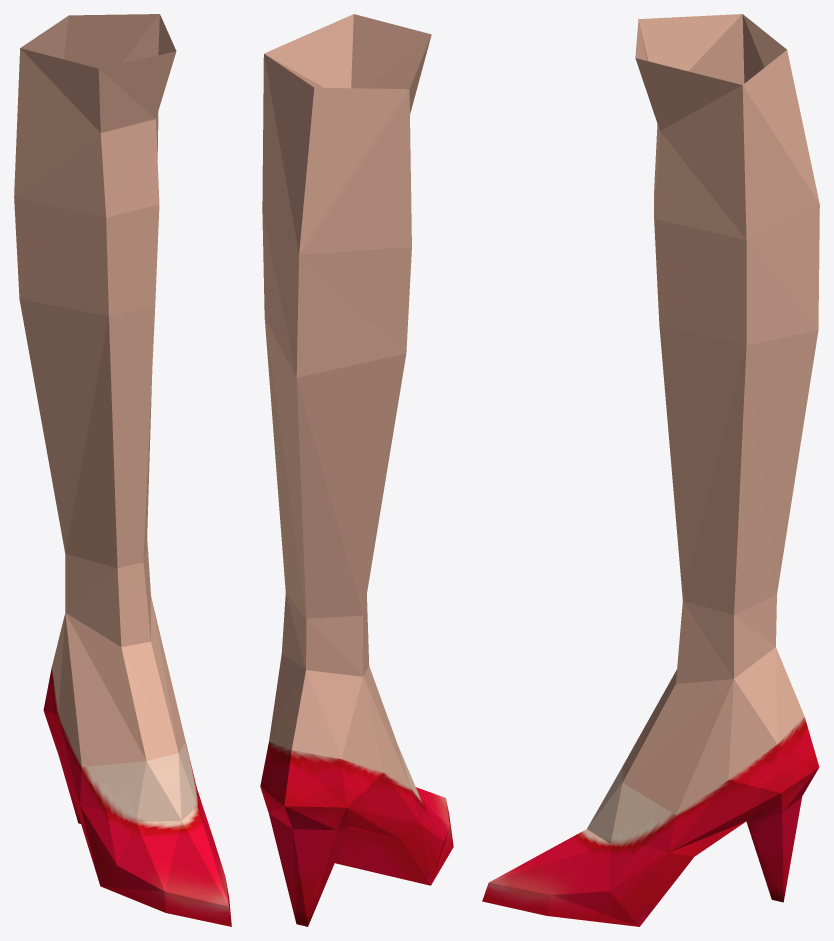
The model's file is PeachRleg.obj.
3 renders of one model, left to right at view 1: azimuth 30°, elevation 25°; view 2: azimuth 150°, elevation 25°; view 3: azimuth 270°, elevation 25°, orthographic. The views are drawn at different scales.
Parts seen in each view (by area): view 1: PeachRleg; view 2: PeachRleg; view 3: PeachRleg.
Boxes of the visible parts, x1=… form: PeachRleg: x1=14, y1=14, x2=231, y2=926; PeachRleg: x1=260, y1=14, x2=453, y2=926; PeachRleg: x1=482, y1=14, x2=819, y2=926.
Size of the model in its own units: 9.9 by 53.7 by 19.28.
Materials: 1 (1 with a texture image).
